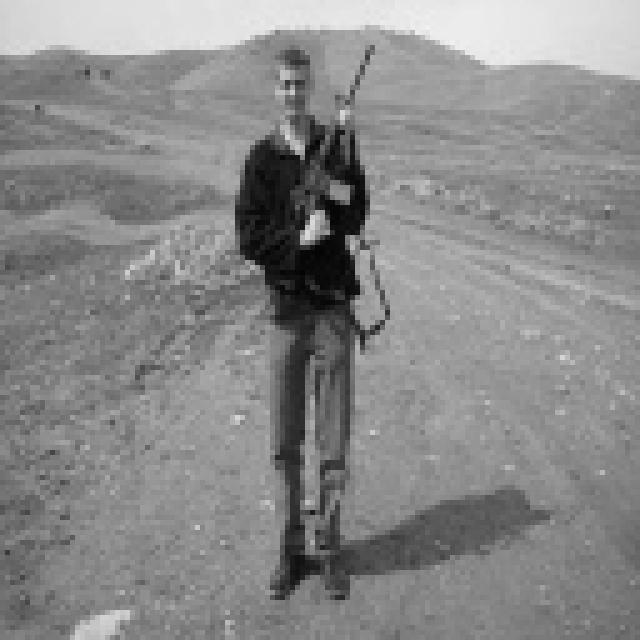Rifle: (263, 43, 423, 259)
